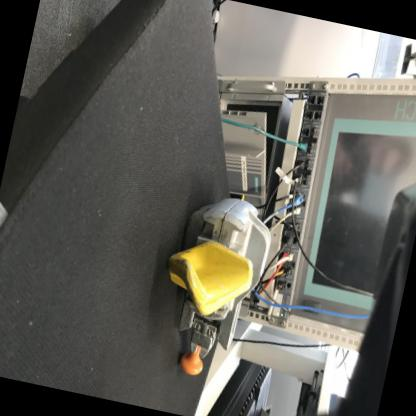Twistlock: (140, 183, 282, 392)
